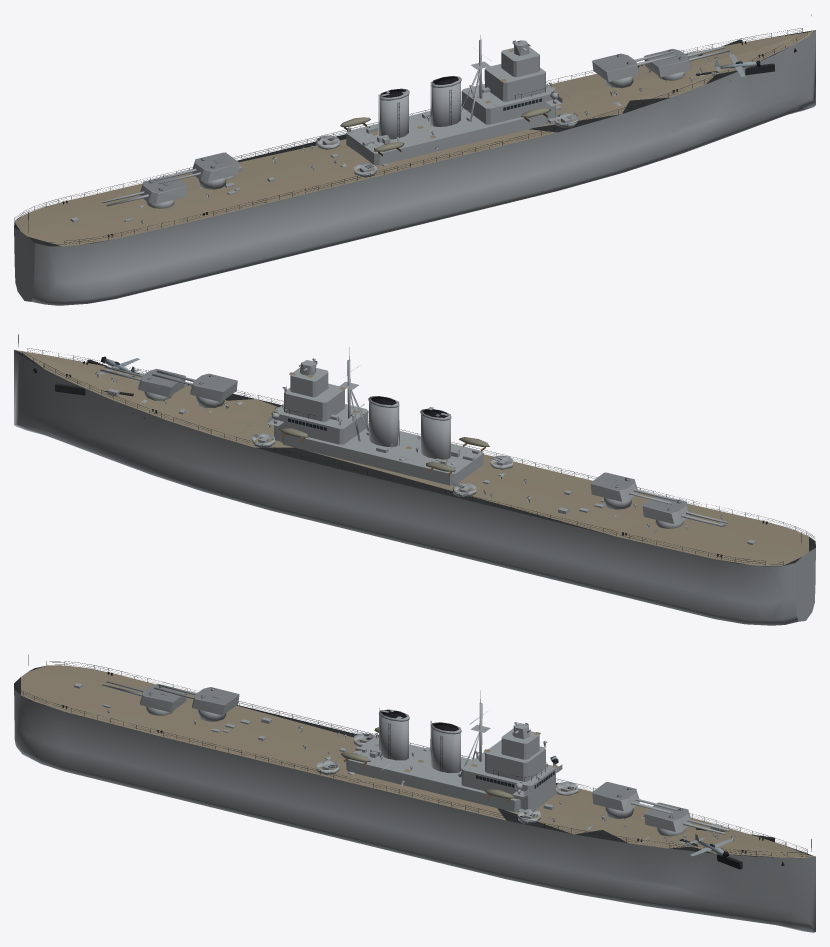
File: zara_lod.glb
3 views of the same model, one above another, from view 1: azimuth 30°, elevation 25°; view 2: azimuth 150°, elevation 25°; view 3: azimuth 330°, elevation 25° (orthographic).
Parts seen in each view (by area): view 1: zara_lod; view 2: zara_lod; view 3: zara_lod.
Part boxes in pixels (x1=…): zara_lod: x1=14, y1=14, x2=815, y2=305; zara_lod: x1=14, y1=334, x2=815, y2=625; zara_lod: x1=14, y1=654, x2=815, y2=932.
Bounding box in the file's own units: 183 × 35.97 × 20.92.
